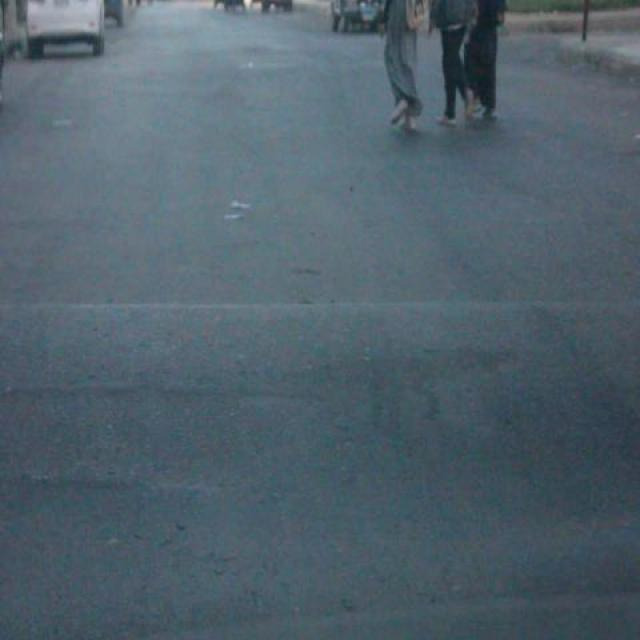Unmarked Bump: (0, 302, 640, 640)
